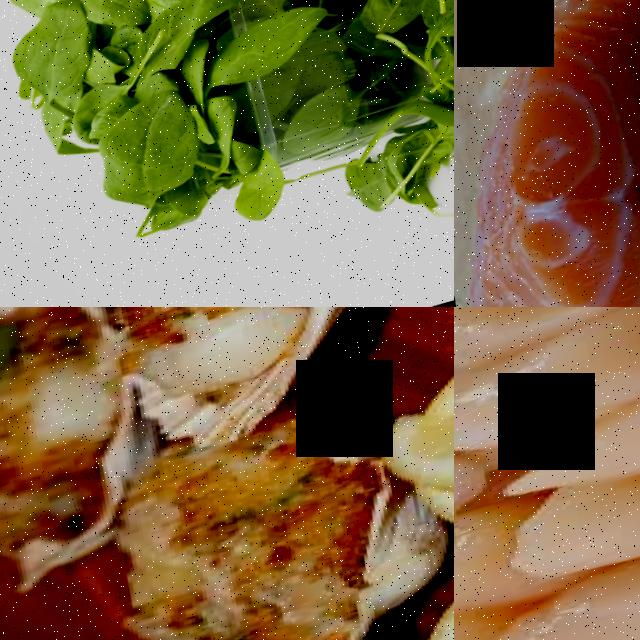salmon: (454, 0, 640, 307), (601, 0, 640, 307)
sea scallops: (454, 307, 640, 471), (502, 427, 640, 601), (465, 524, 640, 640), (454, 307, 640, 379), (454, 504, 539, 634)
spinach: (90, 88, 217, 213), (206, 0, 346, 90), (0, 0, 106, 111), (276, 82, 379, 162), (230, 167, 303, 233), (356, 0, 438, 43), (79, 0, 134, 37), (0, 0, 80, 13)
